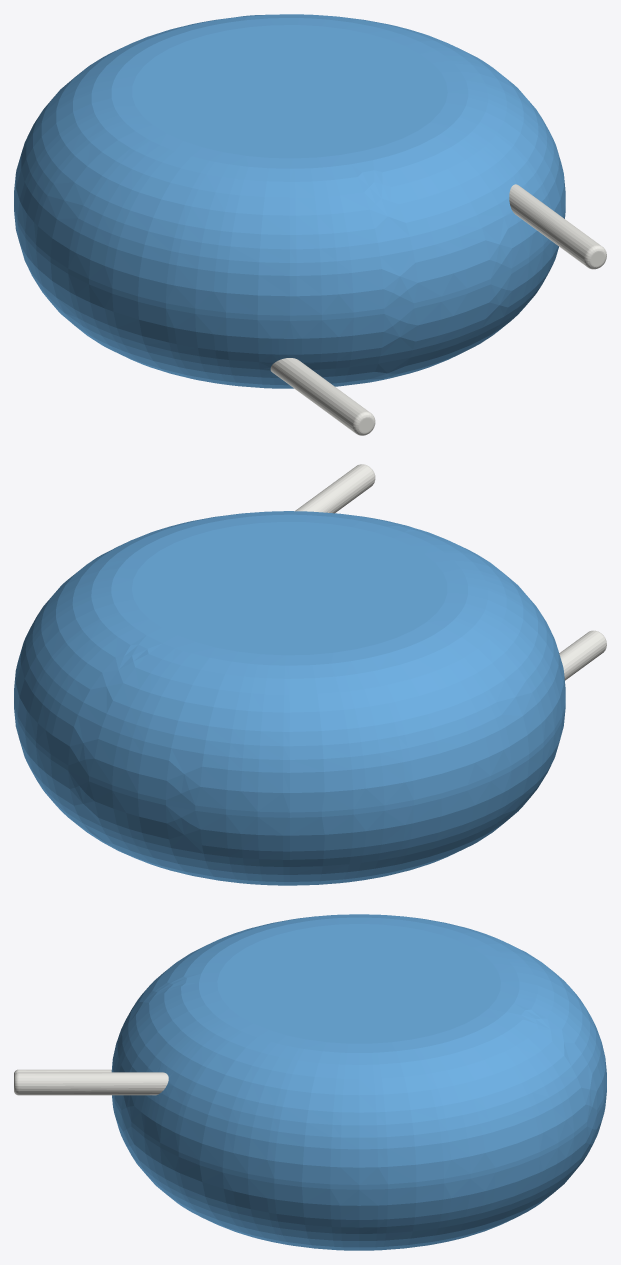
Rendered from RV_Disc_D15.5mm_W6.8mm_P7.5mm.glb.
3 views of the same model, one above another, from view 1: azimuth 30°, elevation 25°; view 2: azimuth 150°, elevation 25°; view 3: azimuth 270°, elevation 25° (orthographic). The views are drawn at different scales.
Parts seen in each view (by area): view 1: Shape_IndexedFaceSet.001, Shape_IndexedFaceSet.003, Shape_IndexedFaceSet.002, Shape_IndexedFaceSet, Shape_IndexedFaceSet.004, Shape_IndexedFaceSet.006; view 2: Shape_IndexedFaceSet.001, Shape_IndexedFaceSet.003, Shape_IndexedFaceSet.002, Shape_IndexedFaceSet, Shape_IndexedFaceSet.004, Shape_IndexedFaceSet.006; view 3: Shape_IndexedFaceSet.001, Shape_IndexedFaceSet.003, Shape_IndexedFaceSet.002, Shape_IndexedFaceSet.004, Shape_IndexedFaceSet.
Part boxes in pixels (left/top/right/bottom): Shape_IndexedFaceSet.001: left=14, top=14, right=565, bottom=315; Shape_IndexedFaceSet.003: left=132, top=25, right=447, bottom=158; Shape_IndexedFaceSet.002: left=14, top=211, right=565, bottom=388; Shape_IndexedFaceSet: left=14, top=206, right=565, bottom=320; Shape_IndexedFaceSet.004: left=509, top=184, right=600, bottom=266; Shape_IndexedFaceSet.006: left=270, top=358, right=368, bottom=432; Shape_IndexedFaceSet.001: left=14, top=511, right=565, bottom=812; Shape_IndexedFaceSet.003: left=132, top=522, right=447, bottom=655; Shape_IndexedFaceSet.002: left=14, top=708, right=565, bottom=885; Shape_IndexedFaceSet: left=14, top=703, right=565, bottom=817; Shape_IndexedFaceSet.004: left=295, top=464, right=374, bottom=513; Shape_IndexedFaceSet.006: left=559, top=631, right=606, bottom=680; Shape_IndexedFaceSet.001: left=111, top=914, right=606, bottom=1184; Shape_IndexedFaceSet.003: left=217, top=924, right=500, bottom=1043; Shape_IndexedFaceSet.002: left=112, top=1092, right=606, bottom=1250; Shape_IndexedFaceSet.004: left=18, top=1072, right=168, bottom=1095; Shape_IndexedFaceSet: left=112, top=1087, right=606, bottom=1189.
Bounding box in the file's own units: 6.1 × 2.68 × 7.29.
